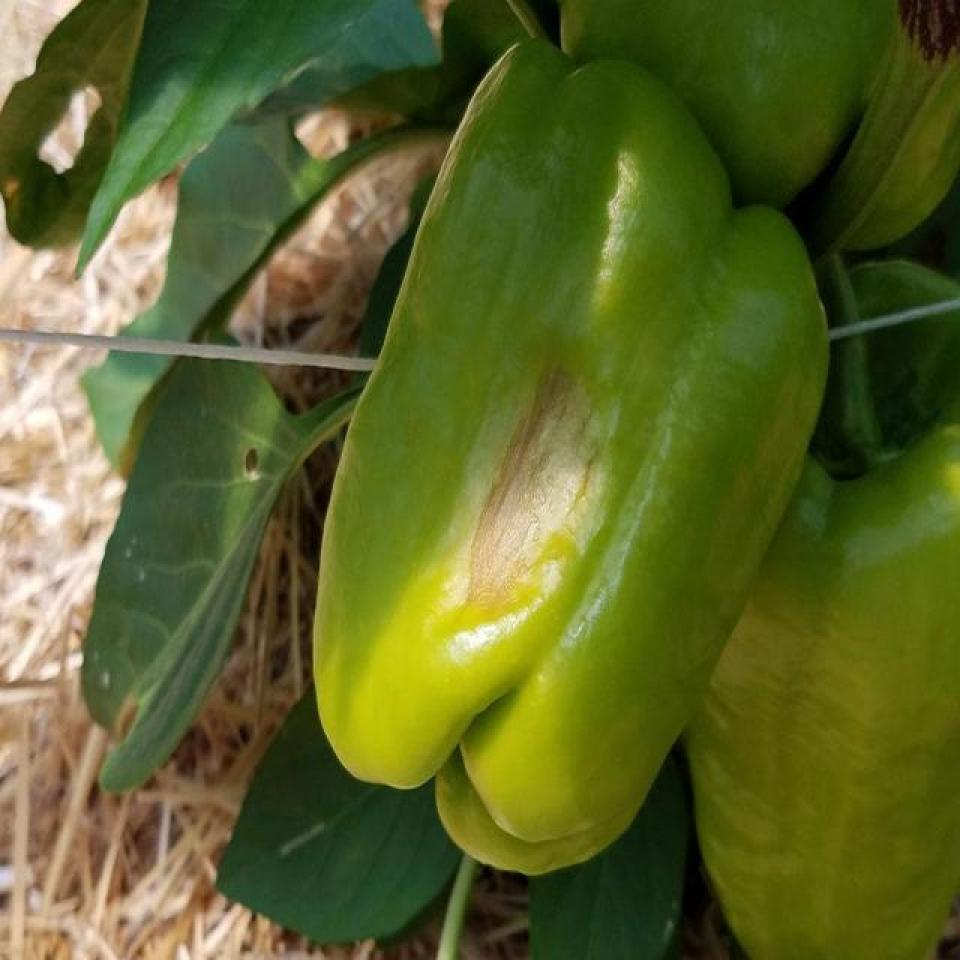Sunscald: (459, 354, 625, 614)
